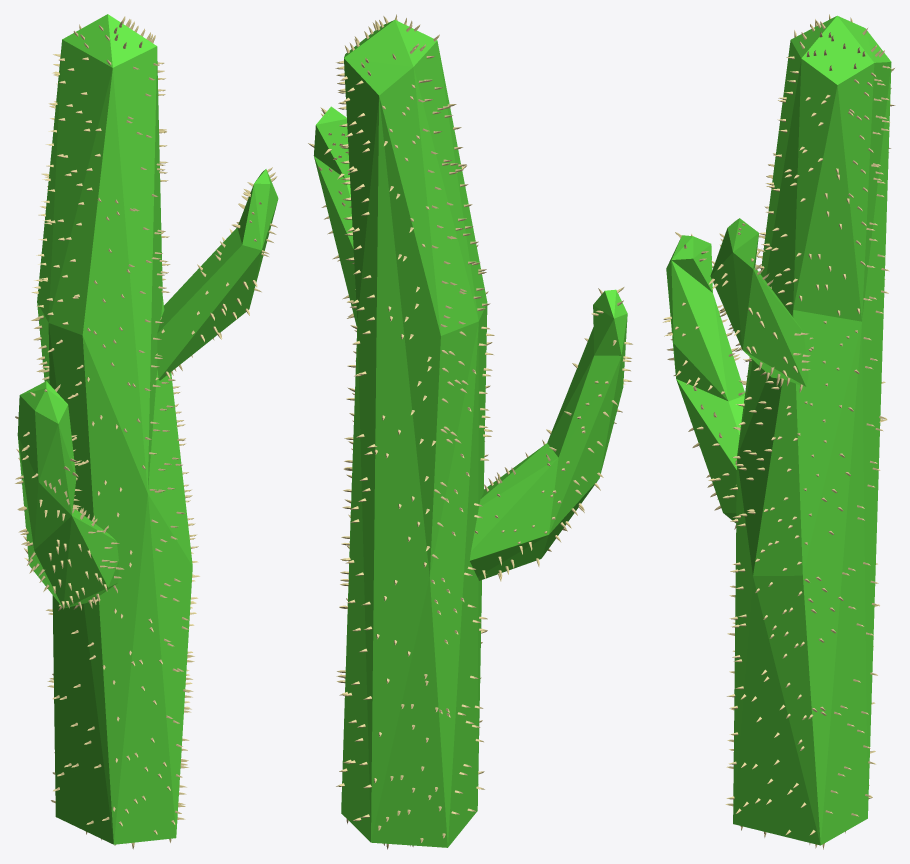
The model's file is cactus.fbx.
The picture shows the model from 3 angles, left to right: view 1: azimuth 30°, elevation 25°; view 2: azimuth 150°, elevation 25°; view 3: azimuth 270°, elevation 25°; orthographic projection. The views are drawn at different scales.
Visible parts, largest first — view 1: Cylinder; view 2: Cylinder; view 3: Cylinder.
Boxes of the visible parts, <box> form: Cylinder: <box>15,14,278,849</box>; Cylinder: <box>308,14,632,849</box>; Cylinder: <box>662,14,895,849</box>.
Size of the model in its own units: 170 by 456 by 120.
